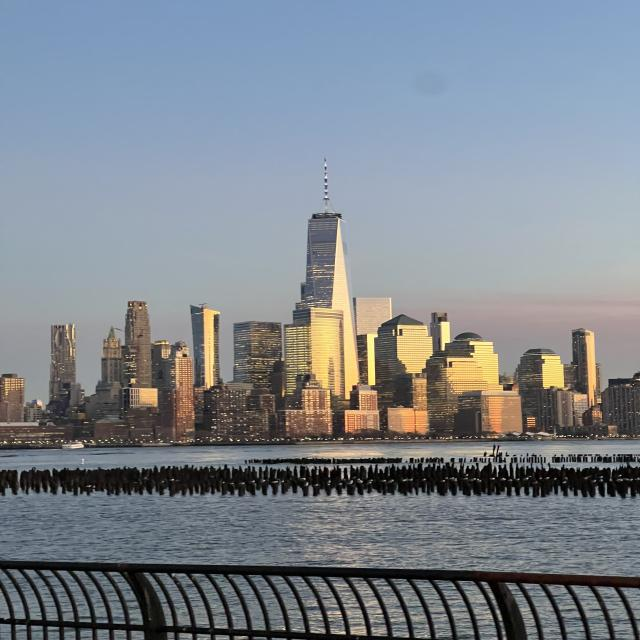WTC: (302, 158, 350, 313)
